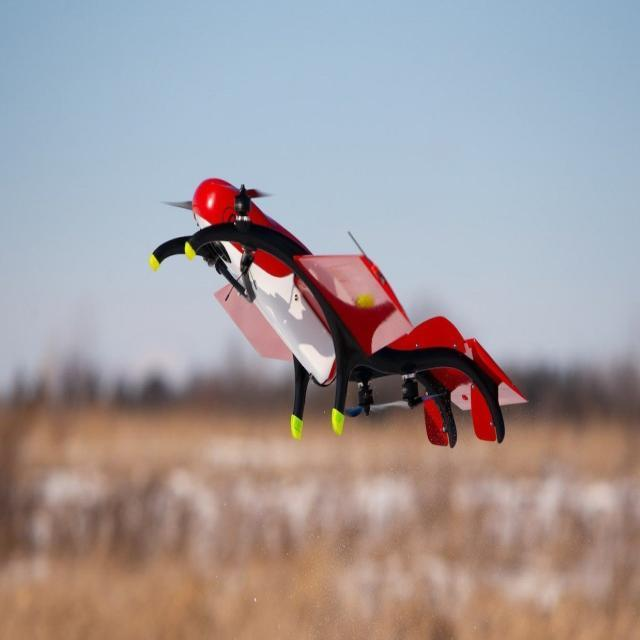iha: (154, 163, 538, 475)
